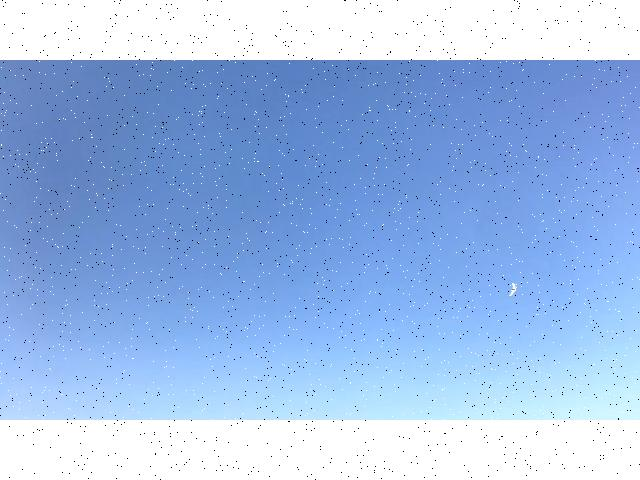Anti-Drone: (500, 277, 534, 307)
